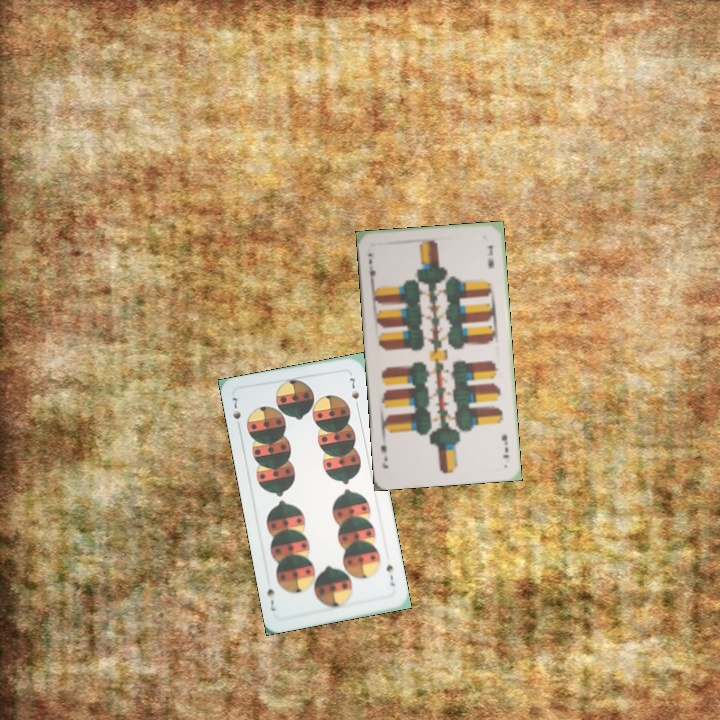E7: (364, 249, 378, 286), (497, 431, 511, 461)
S7: (382, 561, 398, 589), (228, 393, 243, 422)
